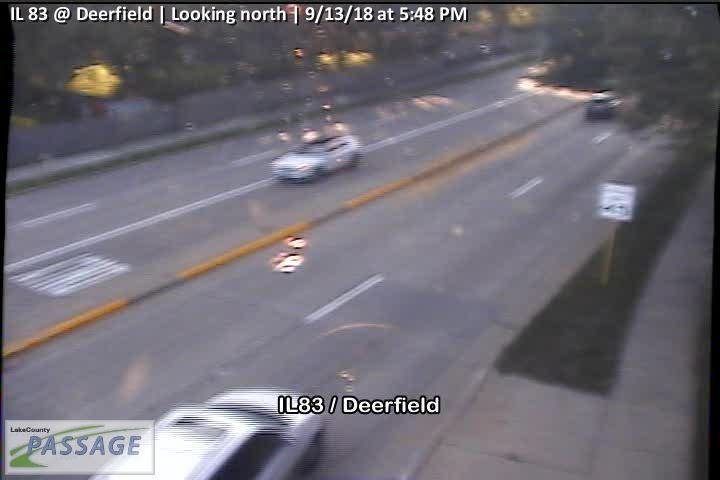SUV: (87, 384, 329, 480), (270, 134, 362, 185)
